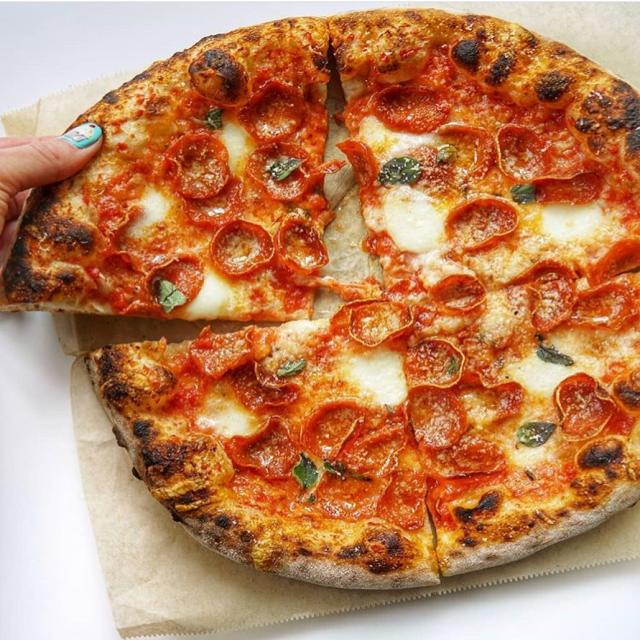basil: (514, 420, 560, 457), (376, 158, 426, 192), (292, 455, 322, 503), (151, 279, 189, 316), (265, 158, 302, 184), (536, 344, 576, 367), (195, 107, 225, 133), (278, 360, 308, 380), (511, 185, 539, 205), (437, 146, 457, 166), (324, 462, 343, 474)
pepperoni: (547, 369, 617, 443), (508, 262, 576, 332), (227, 414, 298, 480), (243, 140, 318, 202), (238, 76, 305, 144), (401, 384, 468, 452), (163, 131, 229, 200), (452, 368, 524, 430), (367, 80, 448, 135), (428, 122, 495, 188), (442, 195, 518, 253), (300, 402, 368, 464), (209, 220, 274, 279), (338, 425, 405, 482), (424, 435, 505, 481), (374, 467, 430, 533), (100, 253, 158, 316), (570, 282, 640, 333), (274, 217, 332, 276), (191, 327, 258, 378), (228, 362, 301, 408), (346, 301, 418, 347), (495, 123, 549, 182), (183, 175, 243, 227), (402, 338, 463, 388), (144, 257, 202, 307), (528, 169, 602, 206), (334, 138, 380, 196), (589, 232, 640, 283), (427, 274, 485, 315), (102, 203, 138, 232)
pizza: (0, 10, 640, 594)
